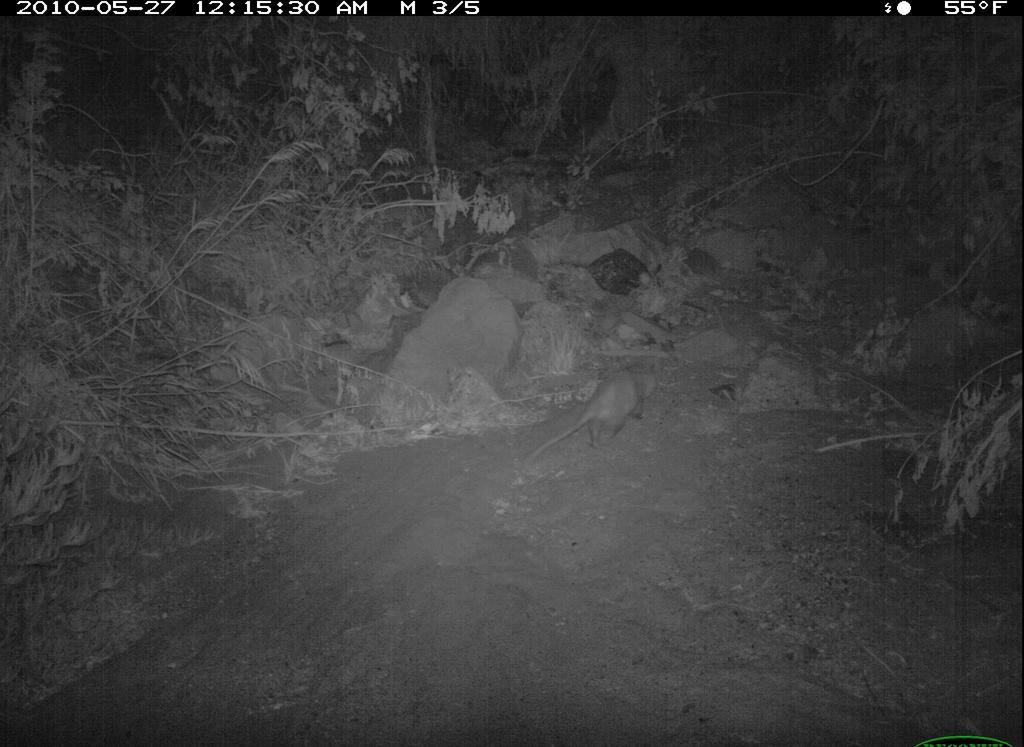opossum: (525, 359, 662, 472)
